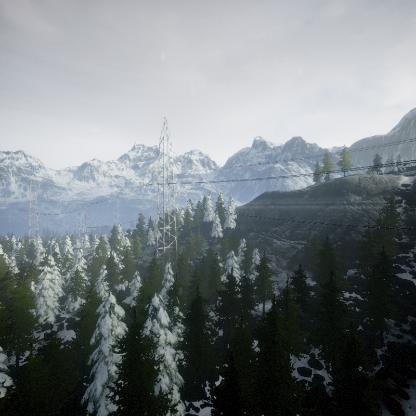tower: (146, 115, 185, 268)
